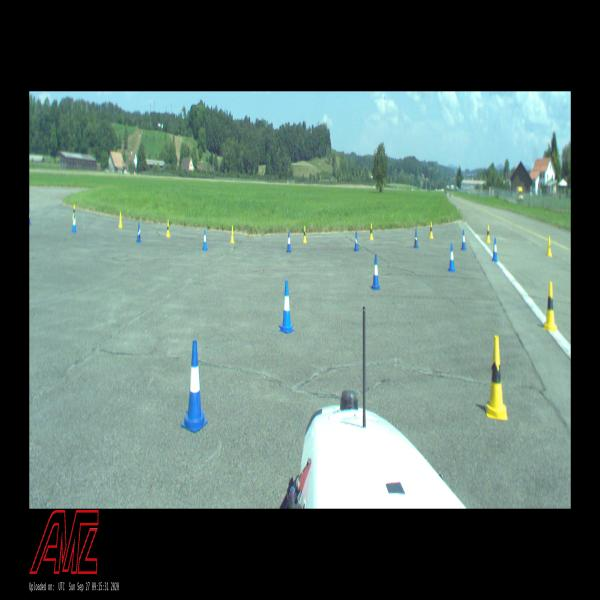blue_cone: (181, 340, 208, 432), (279, 280, 294, 334), (371, 254, 381, 290), (448, 243, 455, 272), (491, 237, 498, 261), (286, 231, 292, 252), (202, 230, 208, 251), (136, 223, 142, 243), (461, 229, 466, 250), (354, 231, 358, 252), (414, 229, 418, 248), (72, 214, 76, 233)
yellow_cone: (485, 336, 508, 421), (544, 282, 558, 330), (546, 236, 552, 257), (486, 225, 491, 243), (369, 223, 374, 240), (429, 222, 434, 239), (230, 226, 235, 243), (166, 219, 170, 238), (119, 211, 123, 228), (303, 226, 307, 242), (72, 204, 76, 219)
